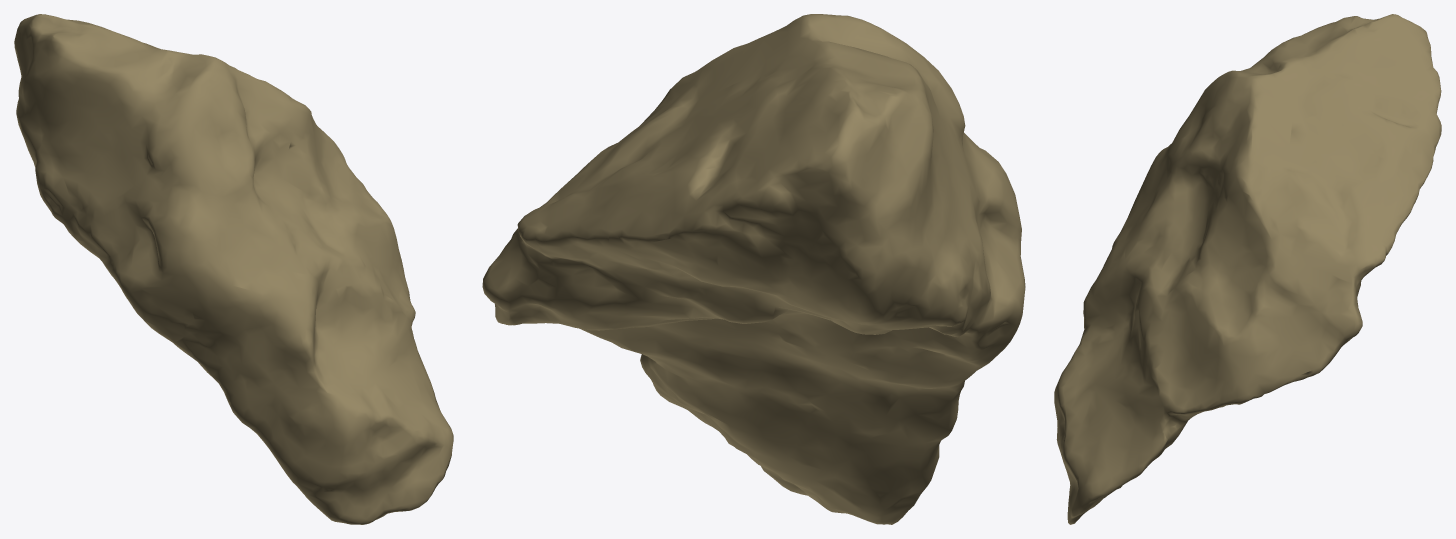
File: rock.fbx
3 views of the same model, side by side, from view 1: azimuth 30°, elevation 25°; view 2: azimuth 150°, elevation 25°; view 3: azimuth 270°, elevation 25° (orthographic). The views are drawn at different scales.
Visible parts, largest first — view 1: Rock_Granite-Photoscan_C_spring-summer-autumn.001; view 2: Rock_Granite-Photoscan_C_spring-summer-autumn.001; view 3: Rock_Granite-Photoscan_C_spring-summer-autumn.001.
Part boxes in pixels (x1,y1,x2,y2): Rock_Granite-Photoscan_C_spring-summer-autumn.001: (14,14,453,524); Rock_Granite-Photoscan_C_spring-summer-autumn.001: (482,14,1025,524); Rock_Granite-Photoscan_C_spring-summer-autumn.001: (1054,14,1441,524).
Bounding box in the file's own units: 78.75 × 102 × 86.45.
